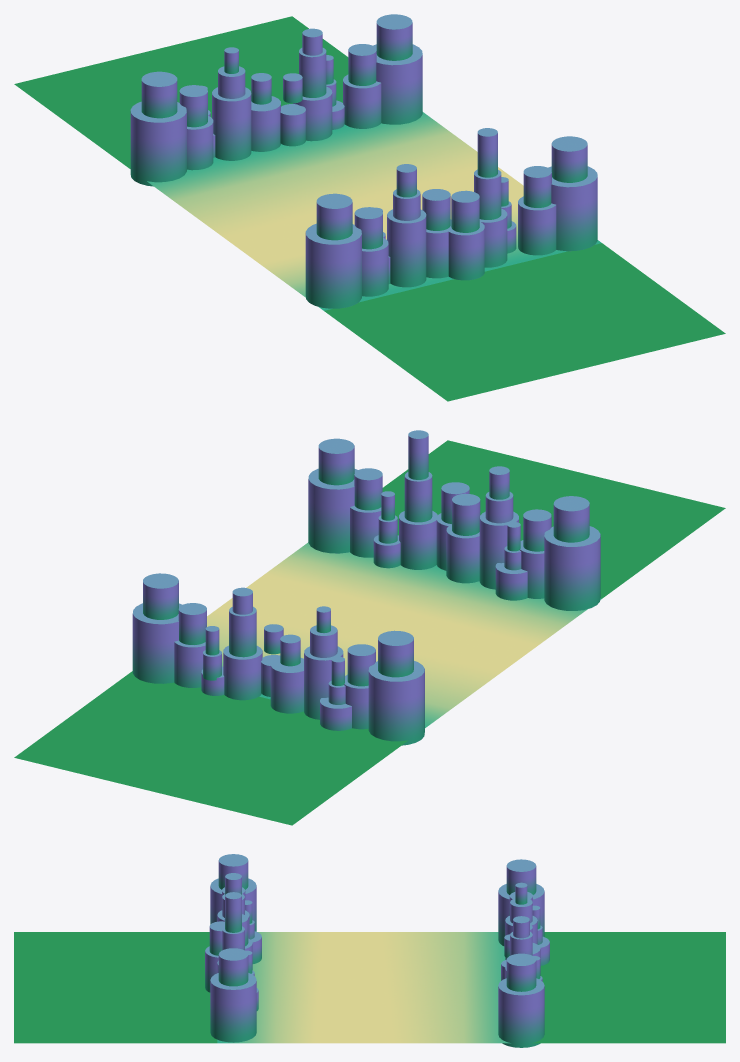
The model's file is Back1.fbx.
3 renders of one model, top to bottom at view 1: azimuth 30°, elevation 25°; view 2: azimuth 150°, elevation 25°; view 3: azimuth 270°, elevation 25°, orthographic. The views are drawn at different scales.
Visible parts, largest first — view 1: Ground, BildingBack, BildingBack2; view 2: Ground, BildingBack, BildingBack2; view 3: Ground, BildingBack, BildingBack2.
Part boxes in pixels (left/top/right/bottom): Ground: left=14, top=16, right=725, bottom=401; BildingBack: left=305, top=128, right=597, bottom=308; BildingBack2: left=130, top=14, right=422, bottom=186; Ground: left=14, top=440, right=725, bottom=825; BildingBack: left=308, top=430, right=600, bottom=610; BildingBack2: left=132, top=573, right=424, bottom=745; Ground: left=14, top=932, right=725, bottom=1043; BildingBack: left=205, top=854, right=261, bottom=1042; BildingBack2: left=498, top=859, right=549, bottom=1047.
Bounding box in the file's own units: 3163 × 1415 × 8335.
